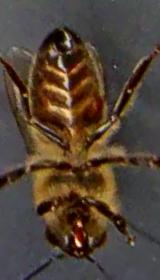varroa_mite: (81, 96, 109, 120)
